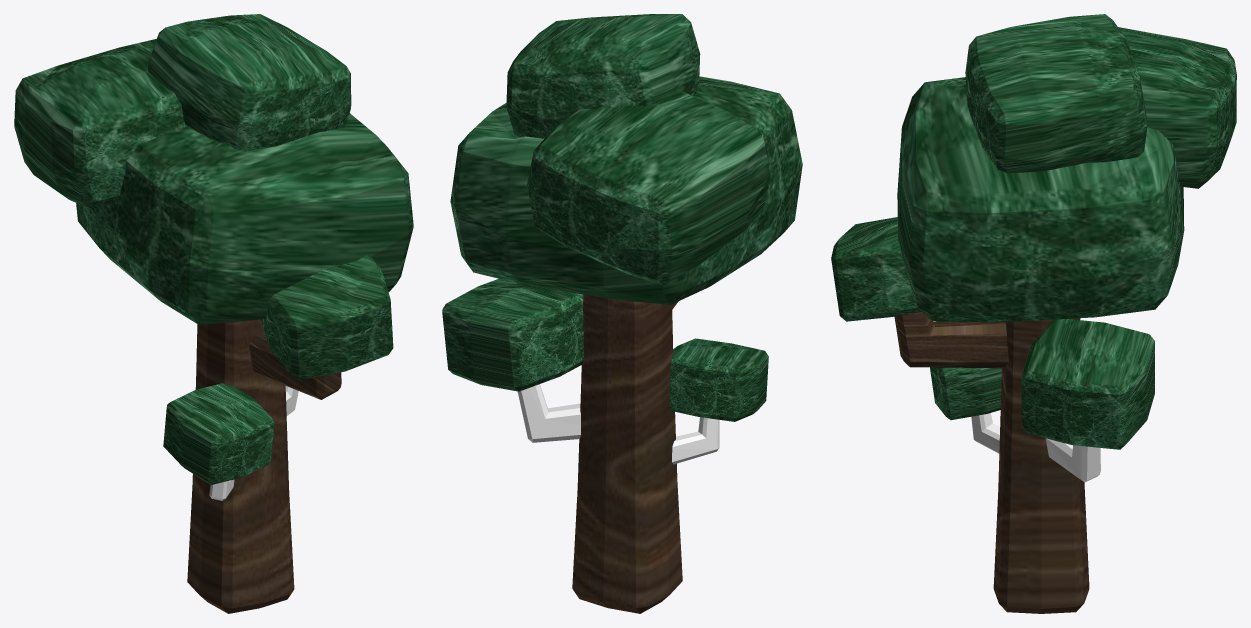
The model's file is grassland_tree_SC_05_trees_red_SC_mat_0.gltf.
3 renders of one model, left to right at view 1: azimuth 30°, elevation 25°; view 2: azimuth 150°, elevation 25°; view 3: azimuth 270°, elevation 25°, orthographic. The views are drawn at different scales.
Visible parts, largest first — view 1: grassland_tree_SC_05_trees_red_SC_mat_0; view 2: grassland_tree_SC_05_trees_red_SC_mat_0; view 3: grassland_tree_SC_05_trees_red_SC_mat_0.
Boxes of the visible parts, x1=… form: grassland_tree_SC_05_trees_red_SC_mat_0: x1=14, y1=14, x2=413, y2=613; grassland_tree_SC_05_trees_red_SC_mat_0: x1=442, y1=14, x2=802, y2=613; grassland_tree_SC_05_trees_red_SC_mat_0: x1=831, y1=14, x2=1236, y2=613.
Size of the model in its own units: 97.86 by 176 by 115.
3 materials, 2 textured.
